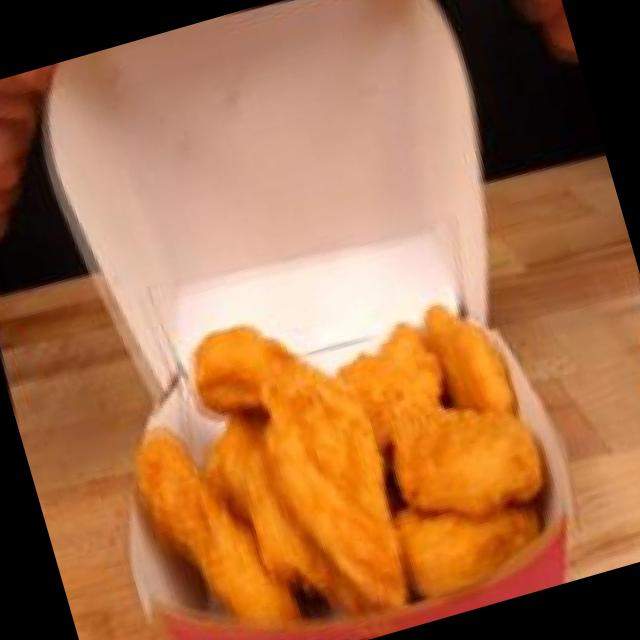nugget: (75, 209, 593, 640)
